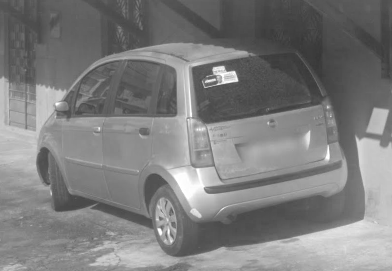car: (38, 37, 351, 252)
